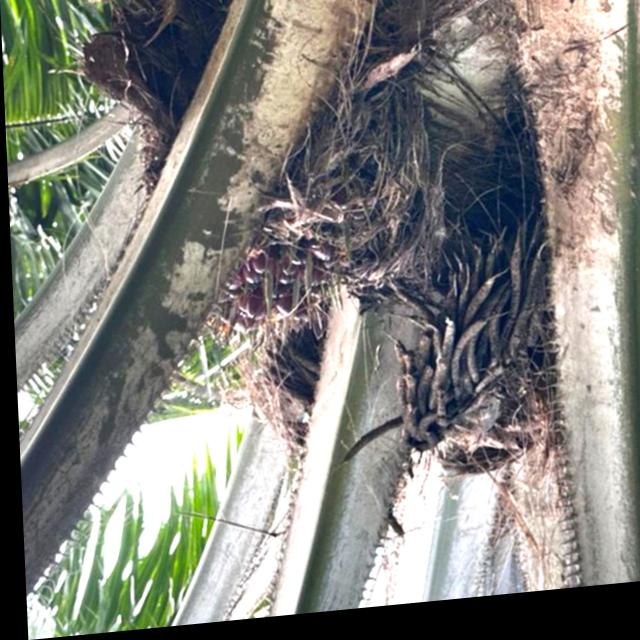ripe: (186, 194, 370, 373)
